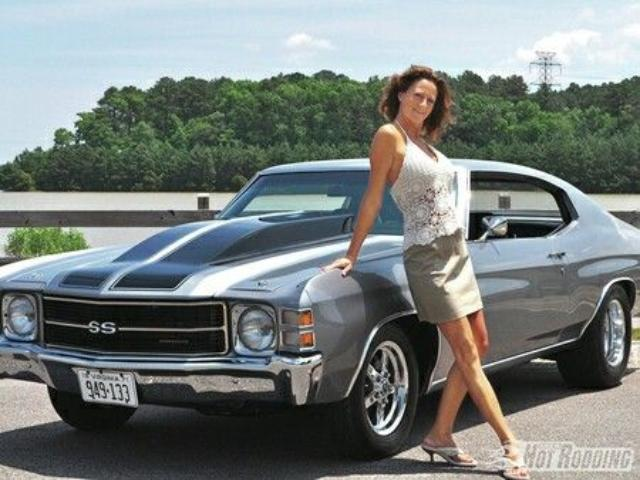chevelle-1972: (0, 158, 452, 457), (451, 159, 639, 384)
